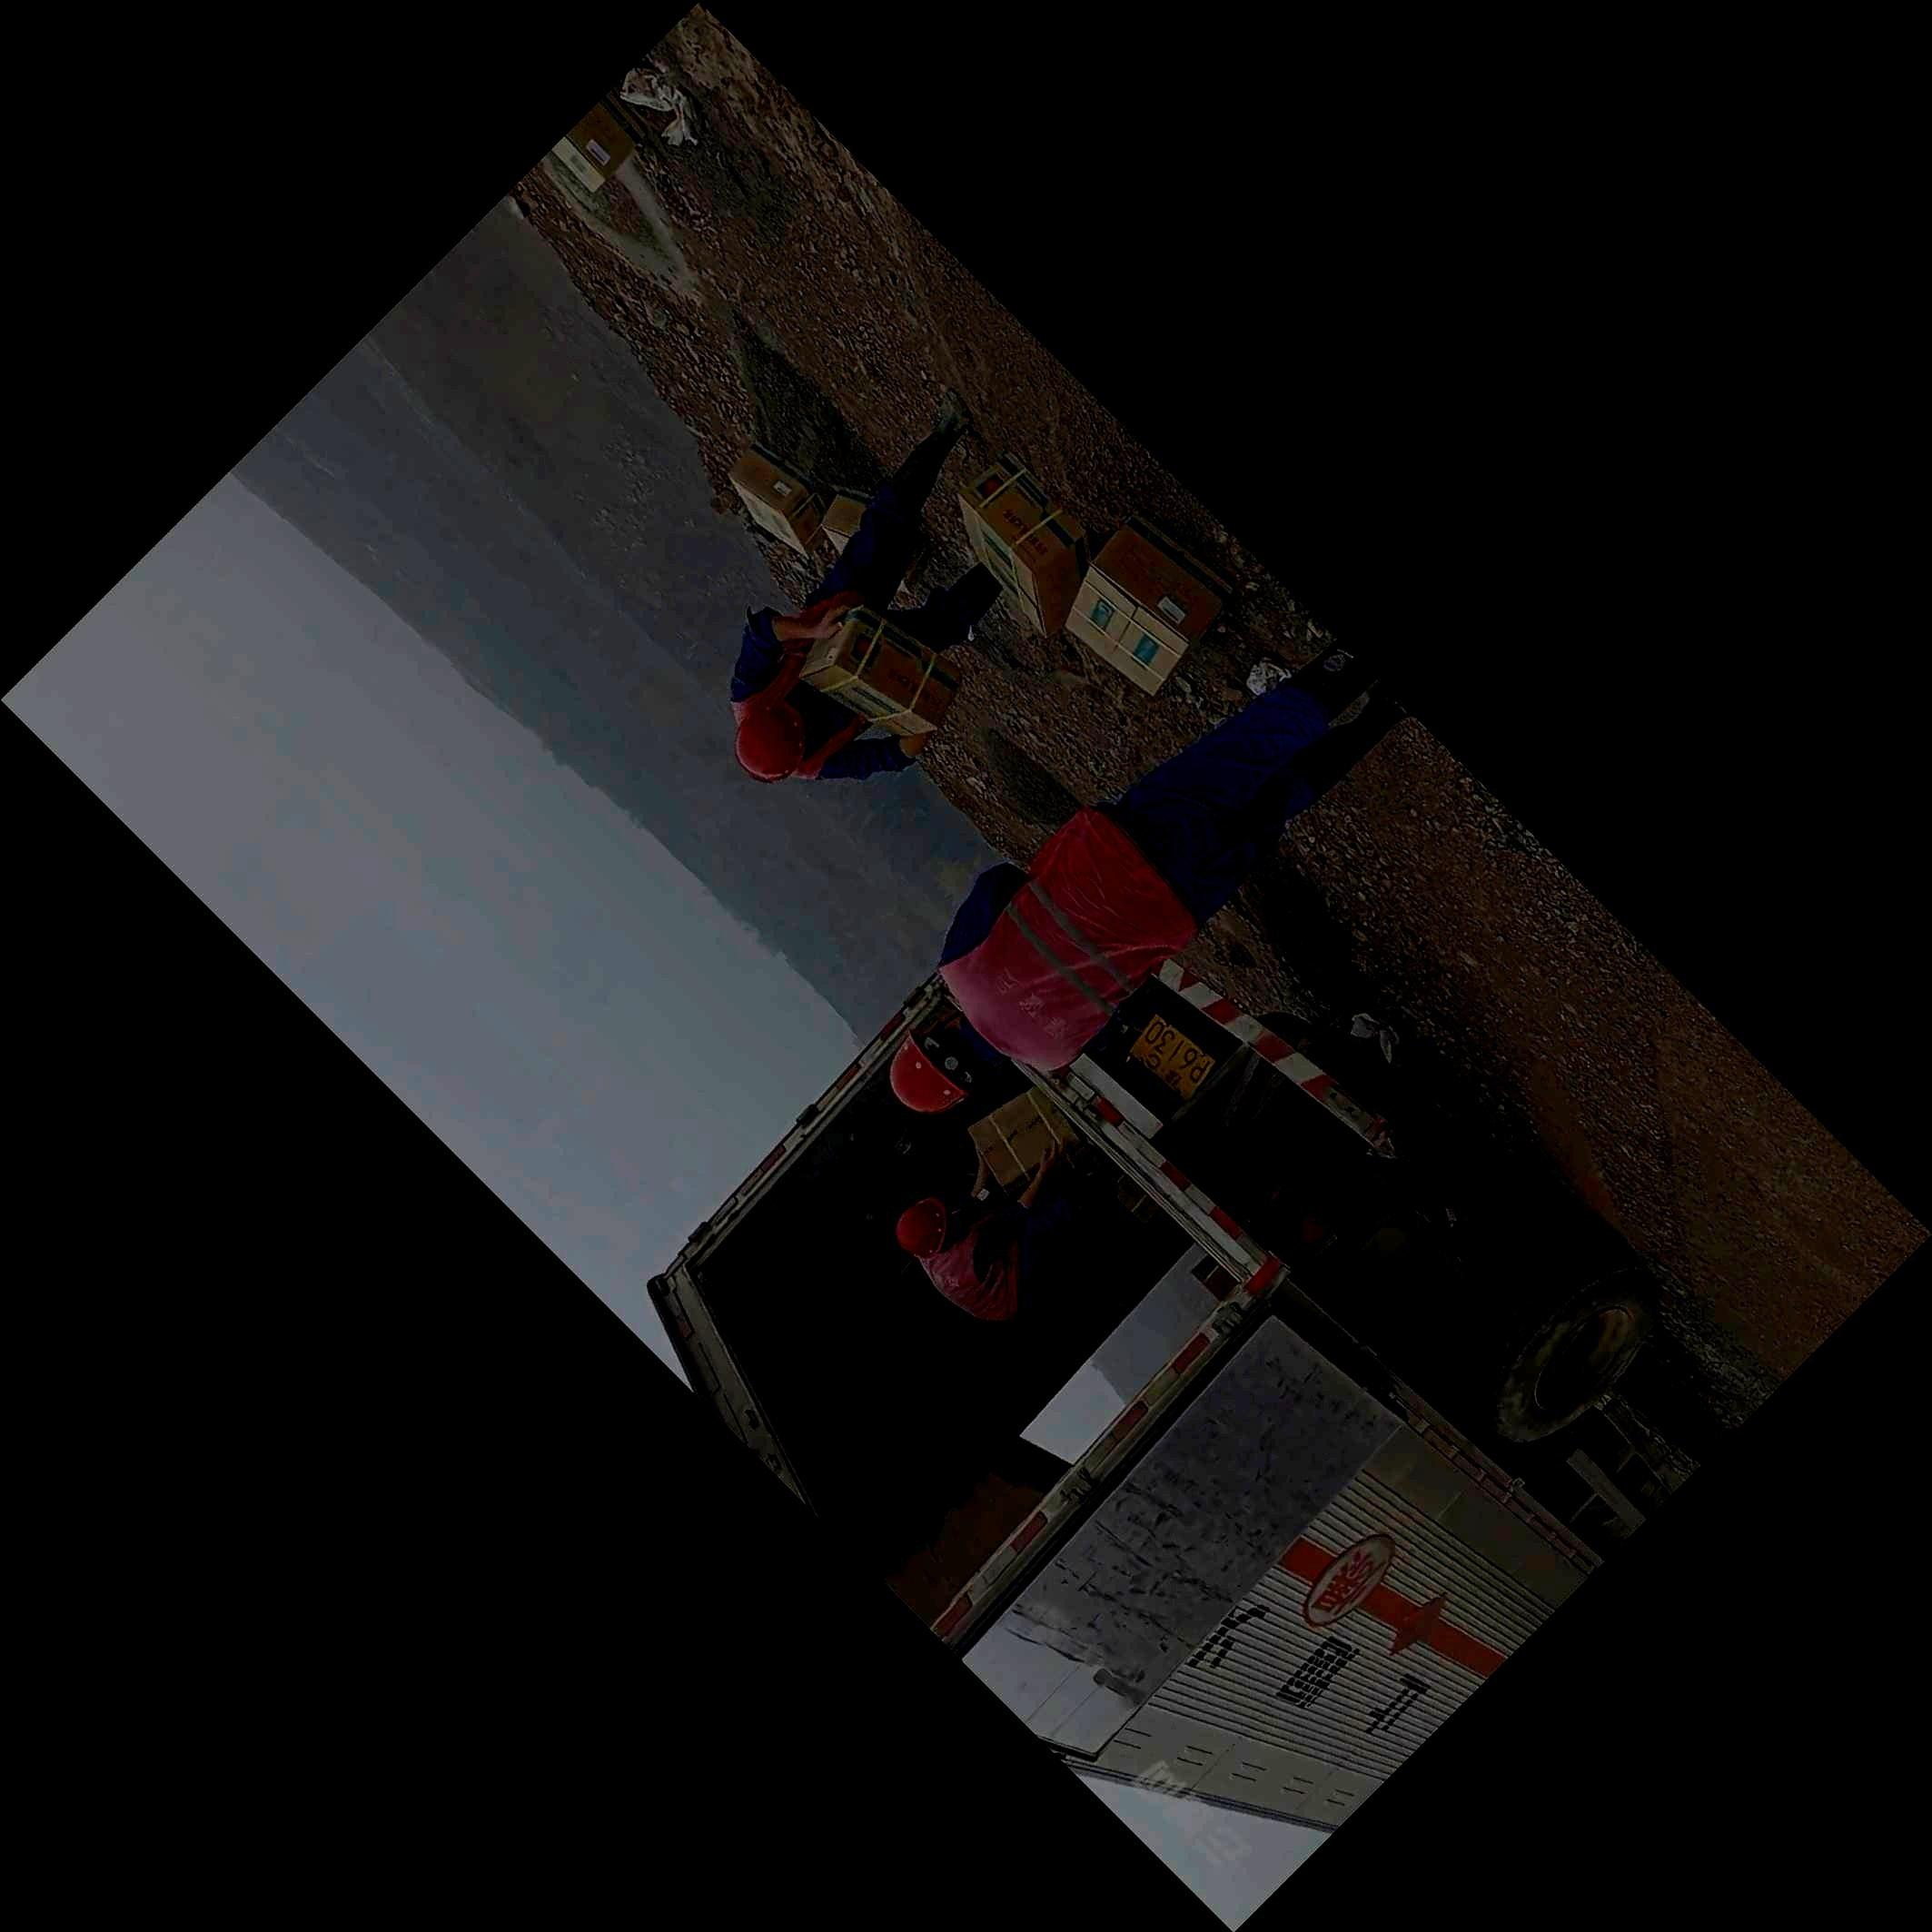helmet: (888, 1010, 991, 1113), (734, 694, 812, 784), (895, 1198, 947, 1260)
